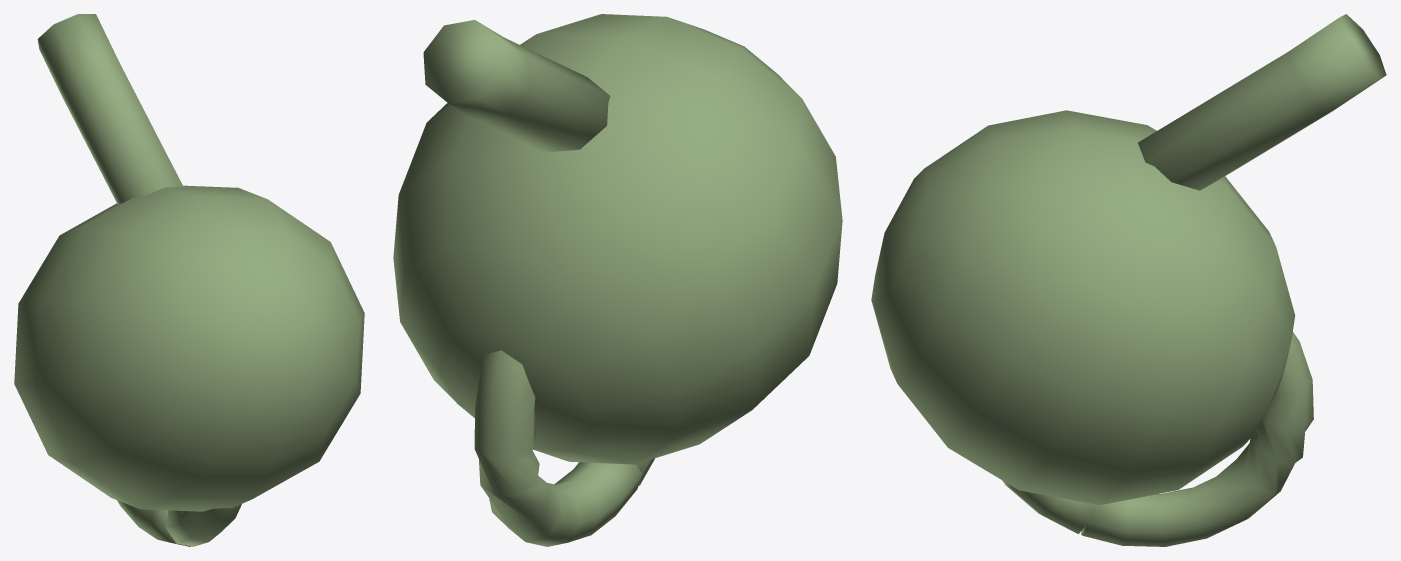
Rendered from Prop_WateringCan.fbx.
3 views of the same model, side by side, from view 1: azimuth 30°, elevation 25°; view 2: azimuth 150°, elevation 25°; view 3: azimuth 270°, elevation 25° (orthographic). The views are drawn at different scales.
Parts seen in each view (by area): view 1: Prop_WateringCan; view 2: Prop_WateringCan; view 3: Prop_WateringCan.
Boxes of the visible parts, box(x1,y1,x2,y2) form: Prop_WateringCan: box(14, 14, 364, 546); Prop_WateringCan: box(393, 14, 842, 546); Prop_WateringCan: box(871, 14, 1386, 546).
Bounding box in the file's own units: 0.36 × 0.5148 × 0.4548.
